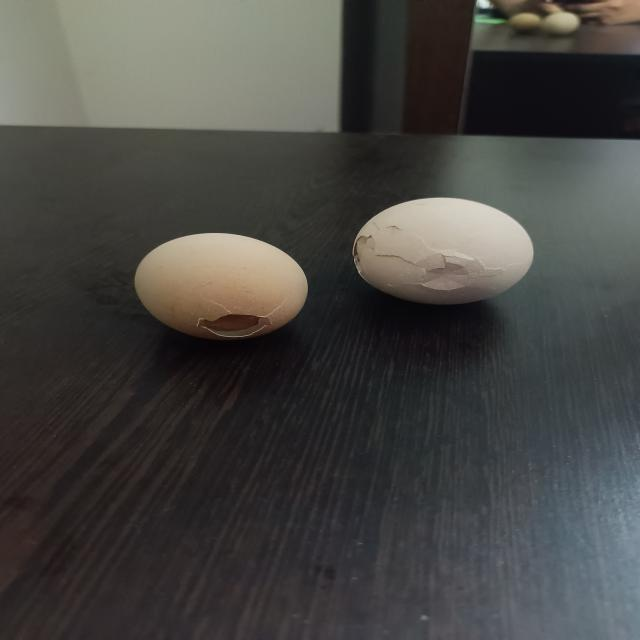biodegradable: (137, 232, 320, 341), (353, 196, 534, 305)
